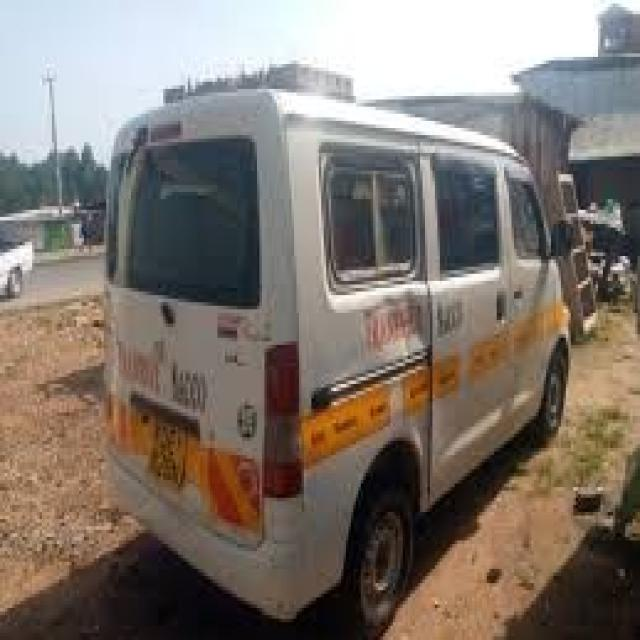matatu: (84, 57, 610, 640)
